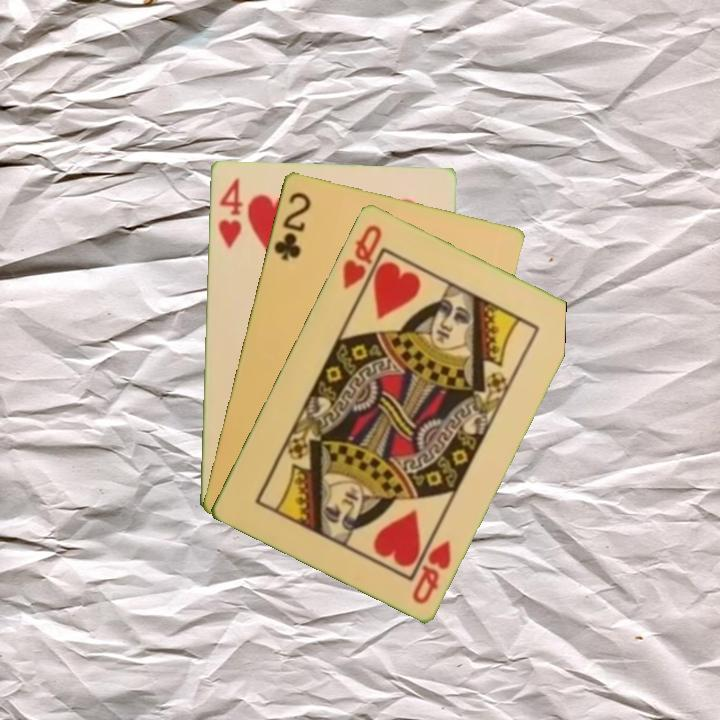2c: (270, 188, 314, 264)
4h: (214, 174, 246, 252)
Qh: (408, 535, 454, 607), (339, 220, 385, 291)
